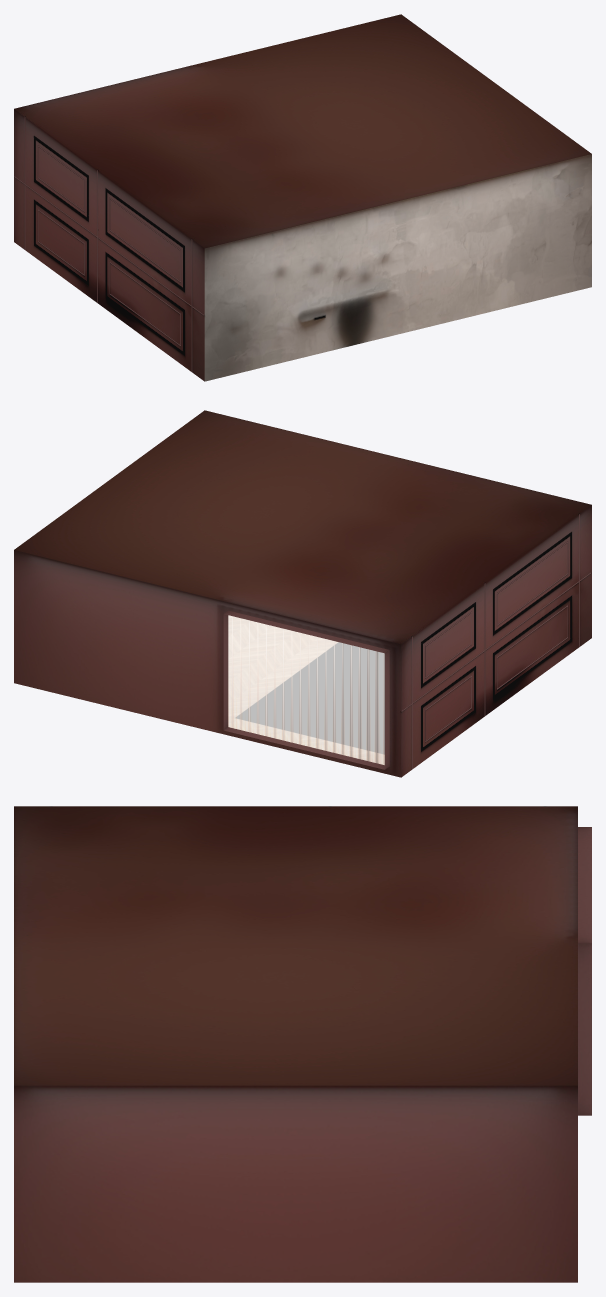
Rendered from room4.glb.
The picture shows the model from 3 angles, top to bottom: view 1: azimuth 30°, elevation 25°; view 2: azimuth 150°, elevation 25°; view 3: azimuth 270°, elevation 25°; orthographic projection. The views are drawn at different scales.
Parts seen in each view (by area): view 1: house, wall; view 2: house, curtain, floor; view 3: house.
Boxes of the visible parts, left/top/right/bottom form: house: left=14, top=14, right=591, bottom=381; wall: left=204, top=154, right=591, bottom=381; house: left=14, top=410, right=591, bottom=777; curtain: left=228, top=615, right=384, bottom=765; floor: left=228, top=616, right=384, bottom=764; house: left=14, top=806, right=591, bottom=1282.
Size of the model in its own units: 12.17 by 4.01 by 10.63.
6 materials, 6 textured.
